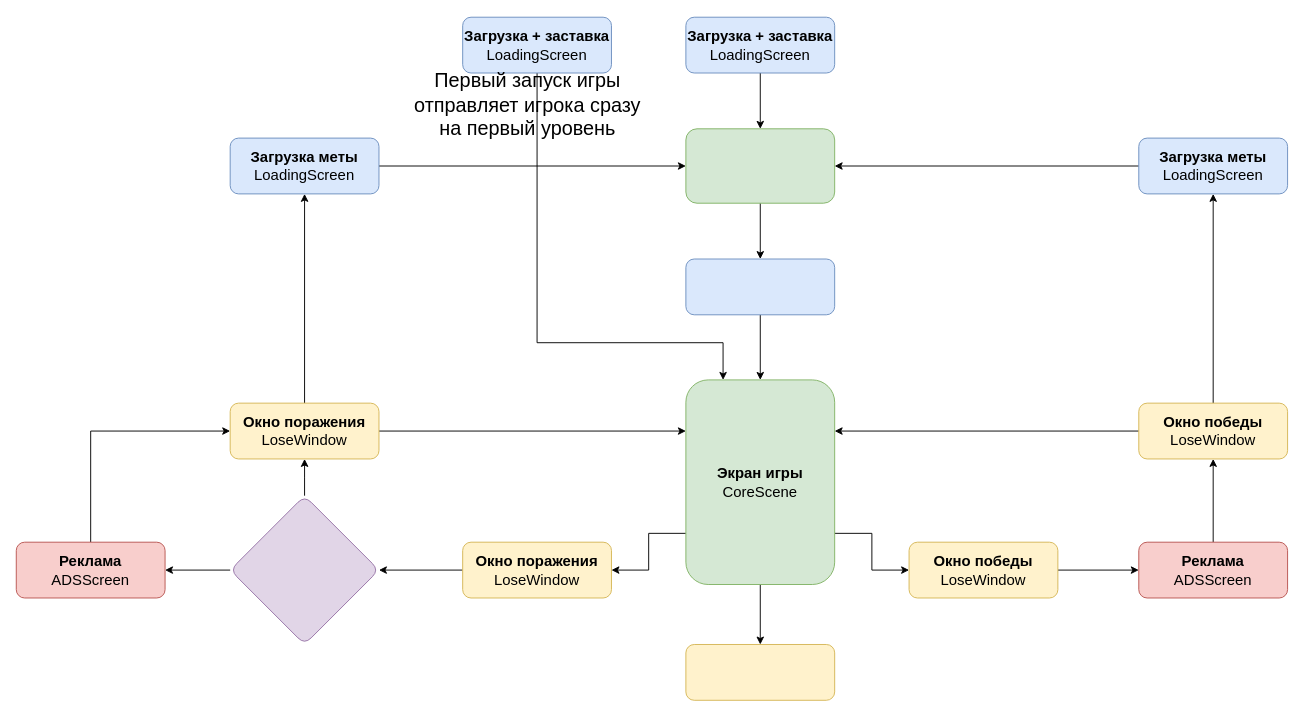
The diagram is 1304 pixels wide and 716 high, and some of its shapes have lost their labels. Each missing label, with the centre of its shape:
"LoseCount == 3?" belongs at point 304,569.
"Главное меню+мета MetaScene" belongs at point 760,165.
"Загрузка уровня LoadingScreen" belongs at point 760,286.
"Окно паузы PauseWindow" belongs at point 760,672.
